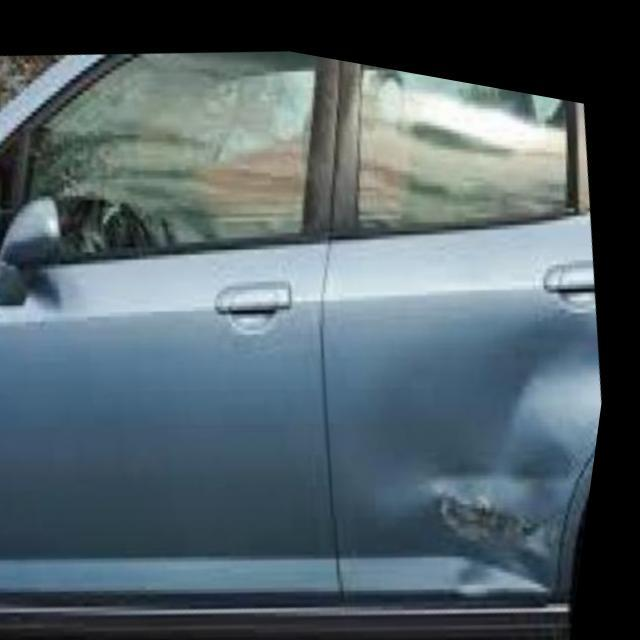dent: (436, 288, 610, 586)
